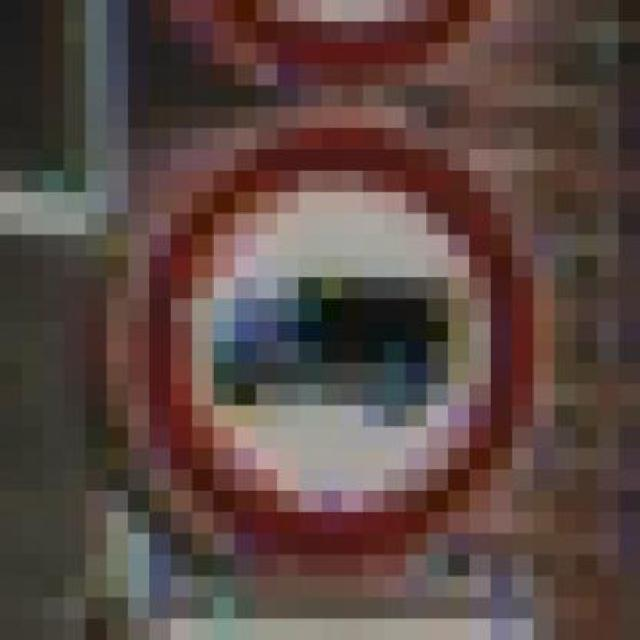Truck traffic is prohibited: (80, 102, 592, 593)
